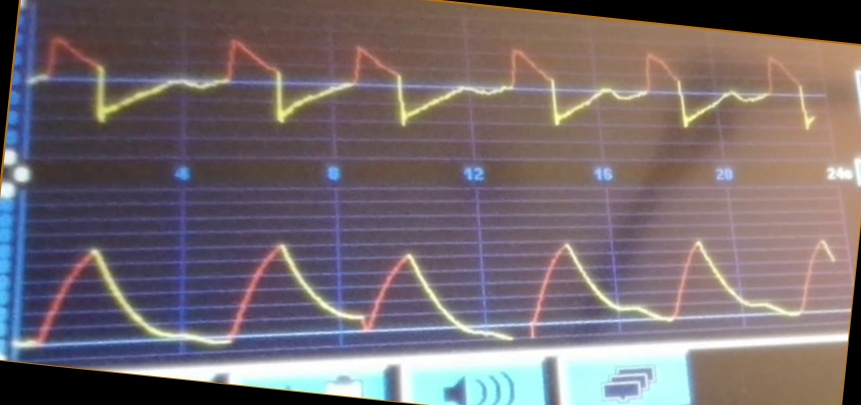Ineffective_effort Flow: (34, 30, 817, 139)
Ineffective_effort Volume: (22, 232, 836, 350)
